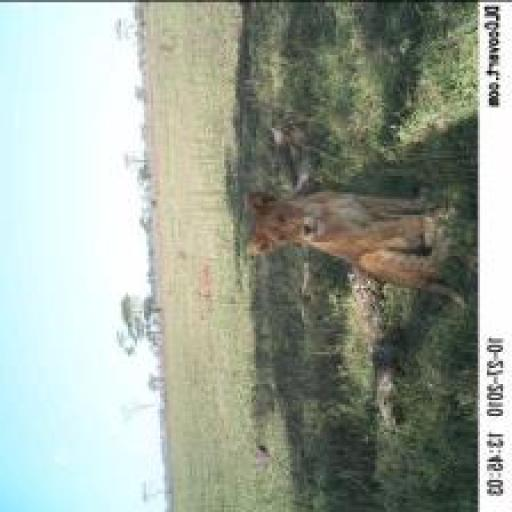lion: (231, 167, 472, 312)
